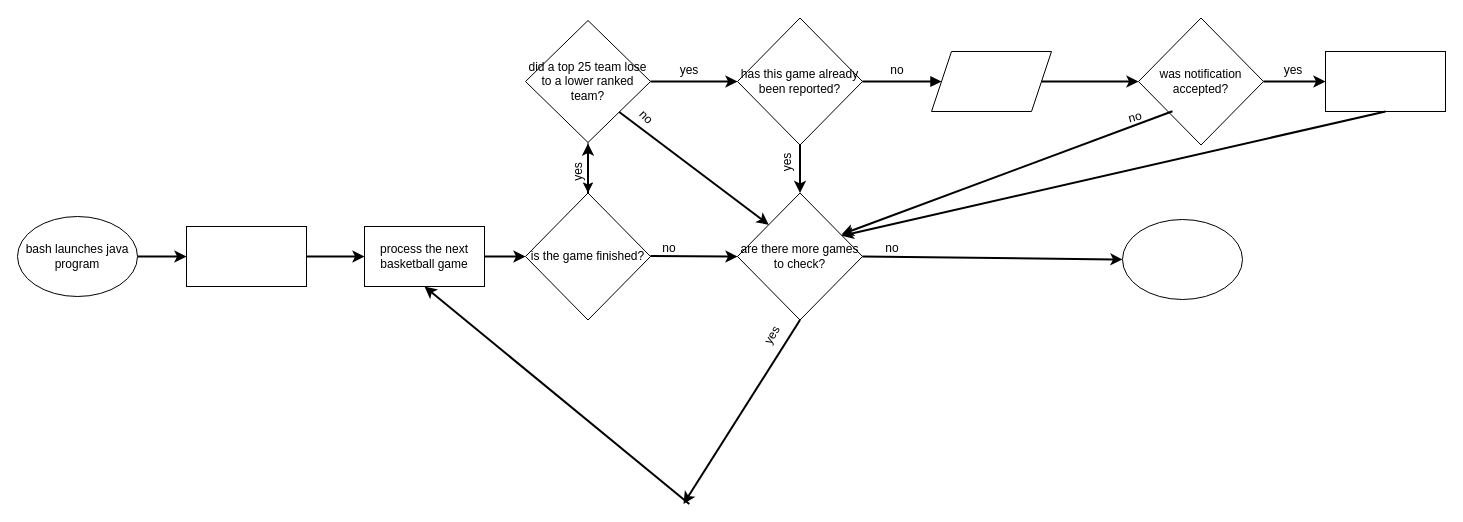
This 1463x522 diagram has some shape labels left out. Each missing label, with the centre of its shape:
"end program" goes at [1182,259].
"fetch ESPN scores and top 25 rankings" goes at [246,256].
"save id to reported-games.txt" goes at [1385,81].
"send push notification through ntfy" goes at [991,81].
